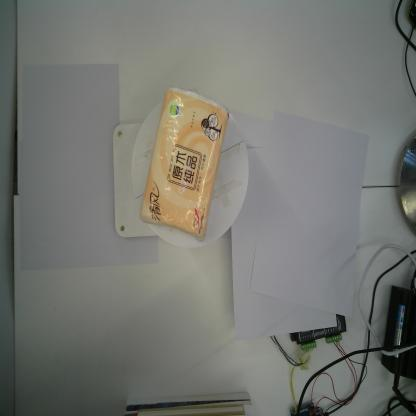Tissue: (138, 85, 231, 243)
